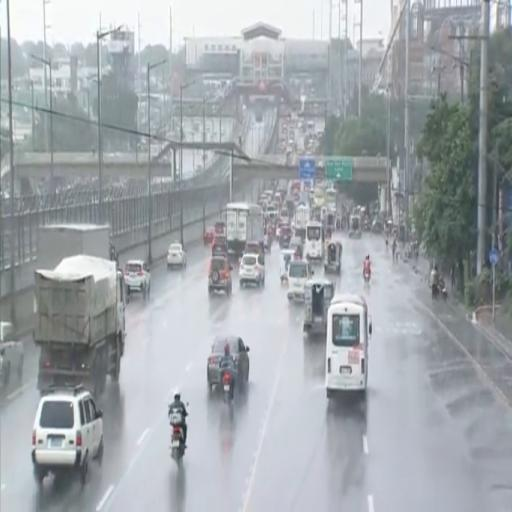car: (32, 386, 103, 485), (207, 335, 249, 391), (0, 322, 23, 386), (125, 261, 151, 298), (209, 255, 232, 295), (239, 253, 264, 286), (167, 243, 186, 267), (212, 234, 227, 255), (203, 228, 215, 246)
motorcycle: (170, 409, 184, 462), (222, 372, 233, 404), (439, 280, 447, 301), (431, 282, 440, 300), (364, 272, 370, 283)
truck: (33, 254, 125, 396), (38, 224, 115, 268), (223, 203, 264, 258), (293, 203, 310, 241)
